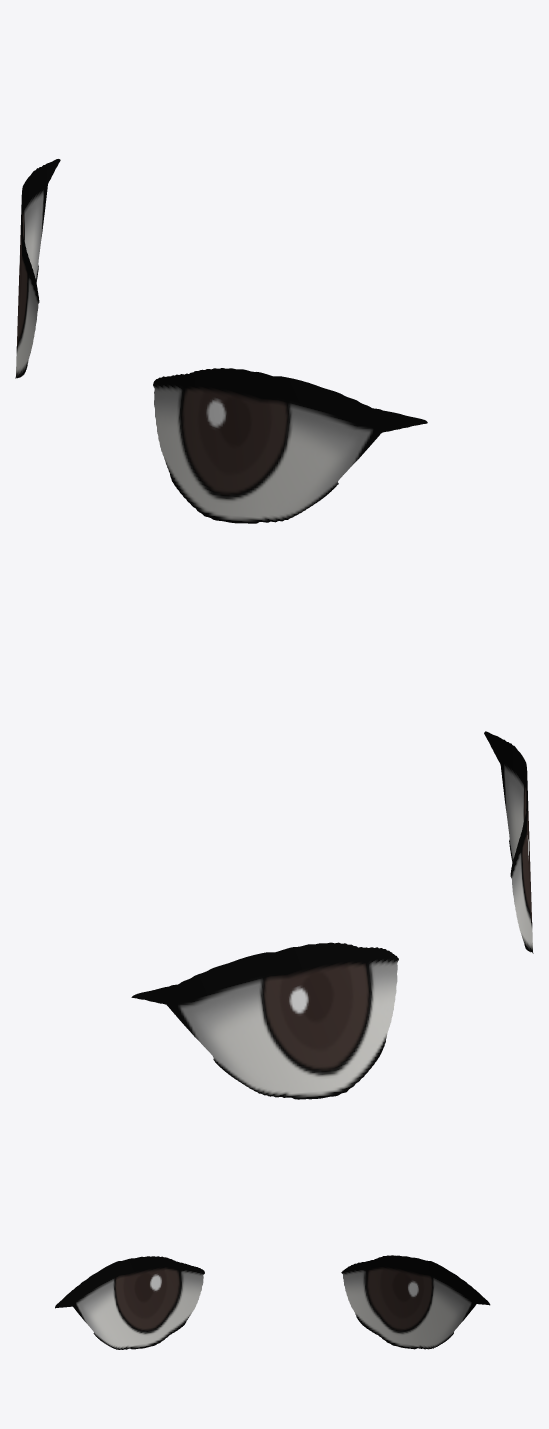
Rendered from Reggie Eyes Card.fbx.
3 views of the same model, one above another, from view 1: azimuth 30°, elevation 25°; view 2: azimuth 150°, elevation 25°; view 3: azimuth 270°, elevation 25° (orthographic). The views are drawn at different scales.
Parts seen in each view (by area): view 1: Reggie Eyes Card.004; view 2: Reggie Eyes Card.004; view 3: Reggie Eyes Card.004.
Boxes of the visible parts, x1,y1,x2,y2 form: Reggie Eyes Card.004: [15, 159, 427, 523]; Reggie Eyes Card.004: [131, 731, 533, 1099]; Reggie Eyes Card.004: [55, 1255, 490, 1349].
Bounding box in the file's own units: 0.2573 × 0.7614 × 0.3503.
1 material, 1 textured.
